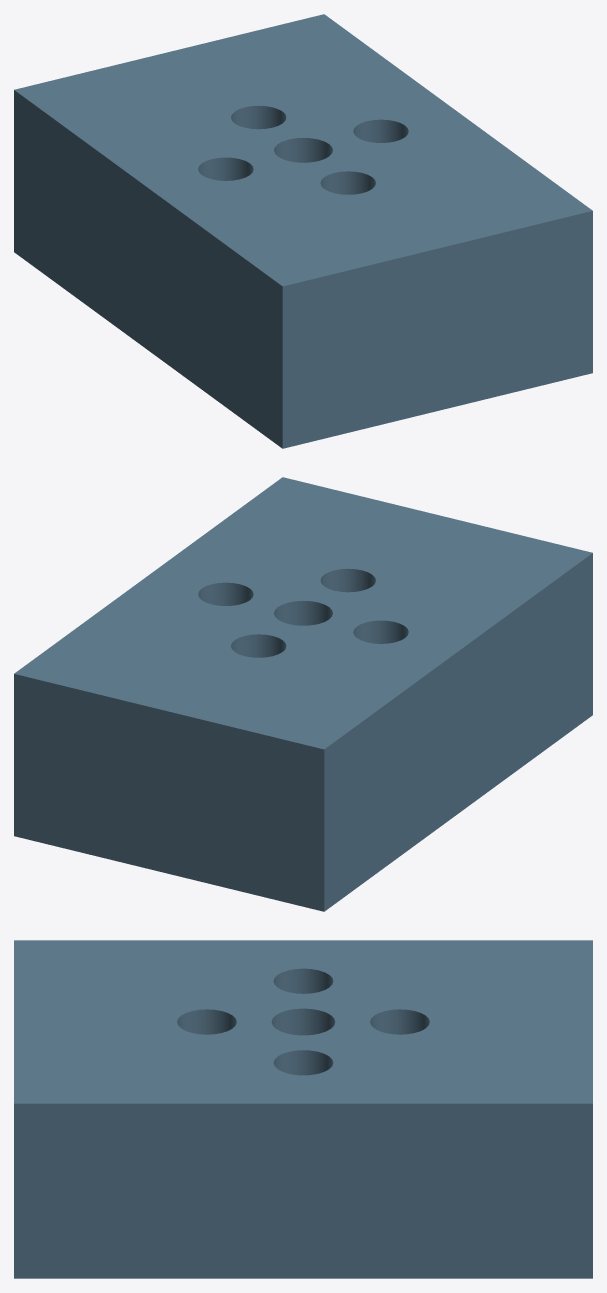
Rendered from rod_holder.dae.
3 renders of one model, top to bottom at view 1: azimuth 30°, elevation 25°; view 2: azimuth 150°, elevation 25°; view 3: azimuth 270°, elevation 25°, orthographic. The views are drawn at different scales.
Parts seen in each view (by area): view 1: Body_1; view 2: Body_1; view 3: Body_1.
Boxes of the visible parts, x1,y1,x2,y2 form: Body_1: [14, 14, 592, 448]; Body_1: [14, 477, 592, 911]; Body_1: [14, 940, 592, 1278].
Bounding box in the file's own units: 0.0508 × 0.0762 × 0.0254.
